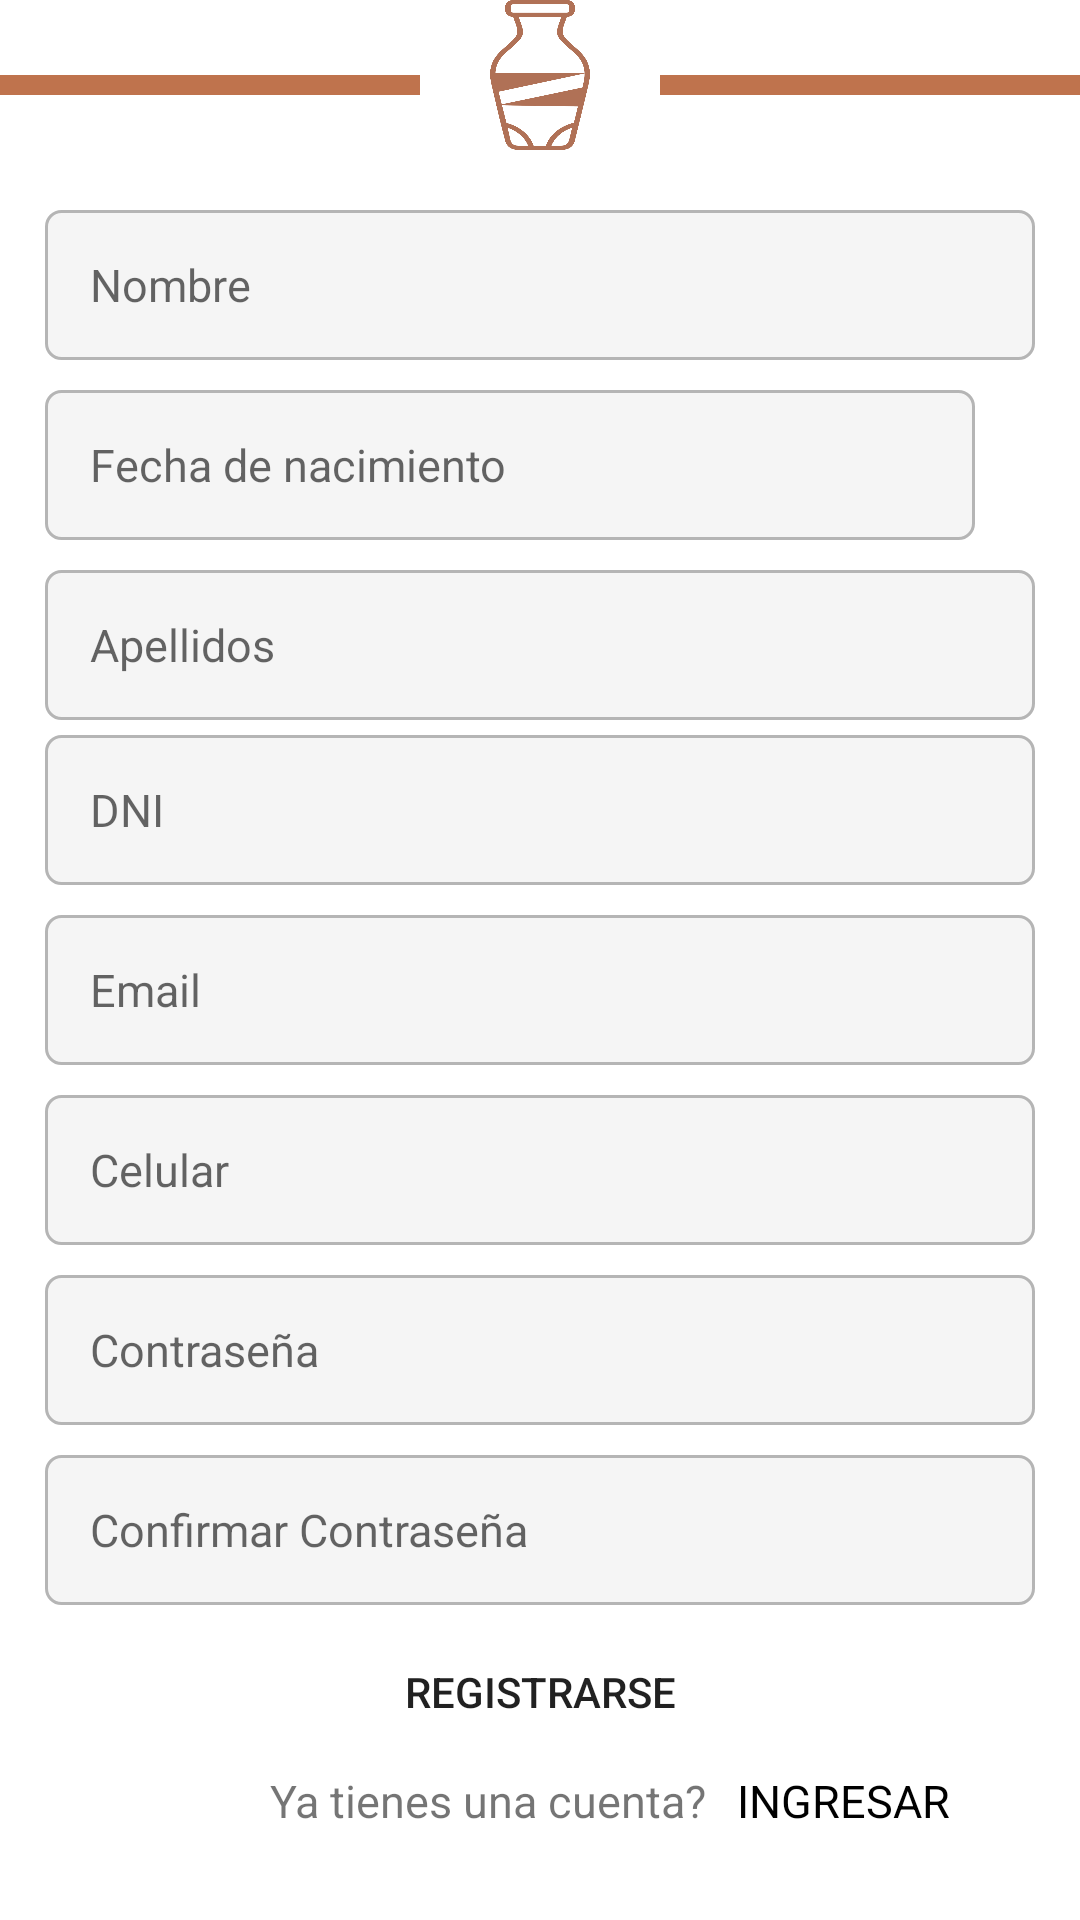

Screen size 1080 x 1920. Icon name, then its center in pixels as (x=x, y=y):
ceramica: (x=540, y=75)
